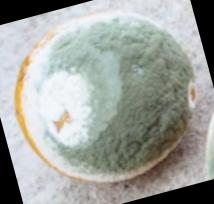Orange Rotten: (9, 8, 201, 188)
